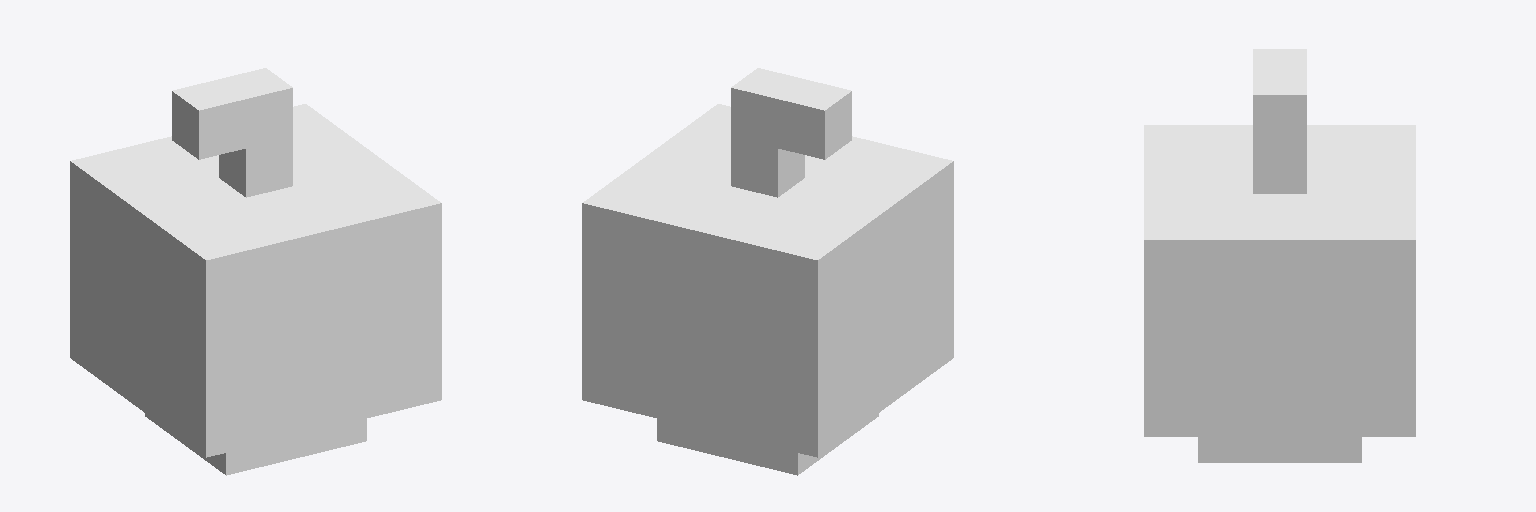
Rendered from manzana.obj.
The picture shows the model from 3 angles: view 1: azimuth 30°, elevation 25°; view 2: azimuth 150°, elevation 25°; view 3: azimuth 270°, elevation 25°; orthographic projection.
Visible parts, largest first — view 1: manzana; view 2: manzana; view 3: manzana.
Boxes of the visible parts, x1,y1,x2,y2 form: manzana: [70, 68, 441, 475]; manzana: [582, 68, 953, 475]; manzana: [1144, 49, 1415, 462].
Size of the model in its own units: 5 by 7 by 5.